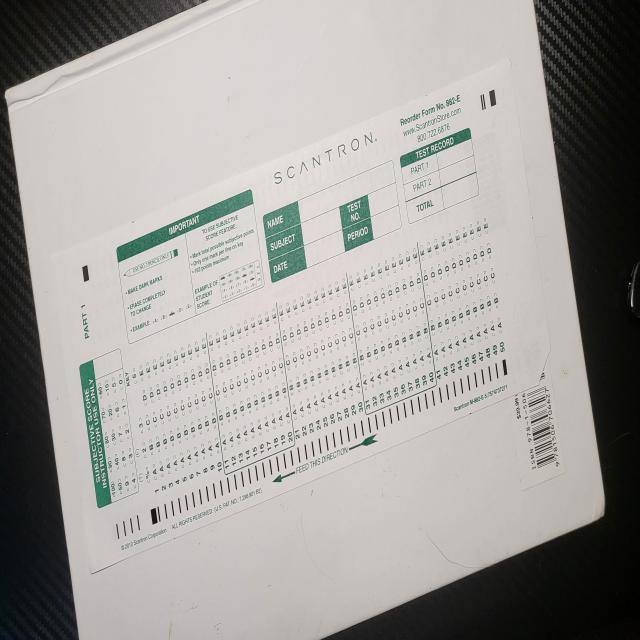scantron: (49, 56, 551, 574)
